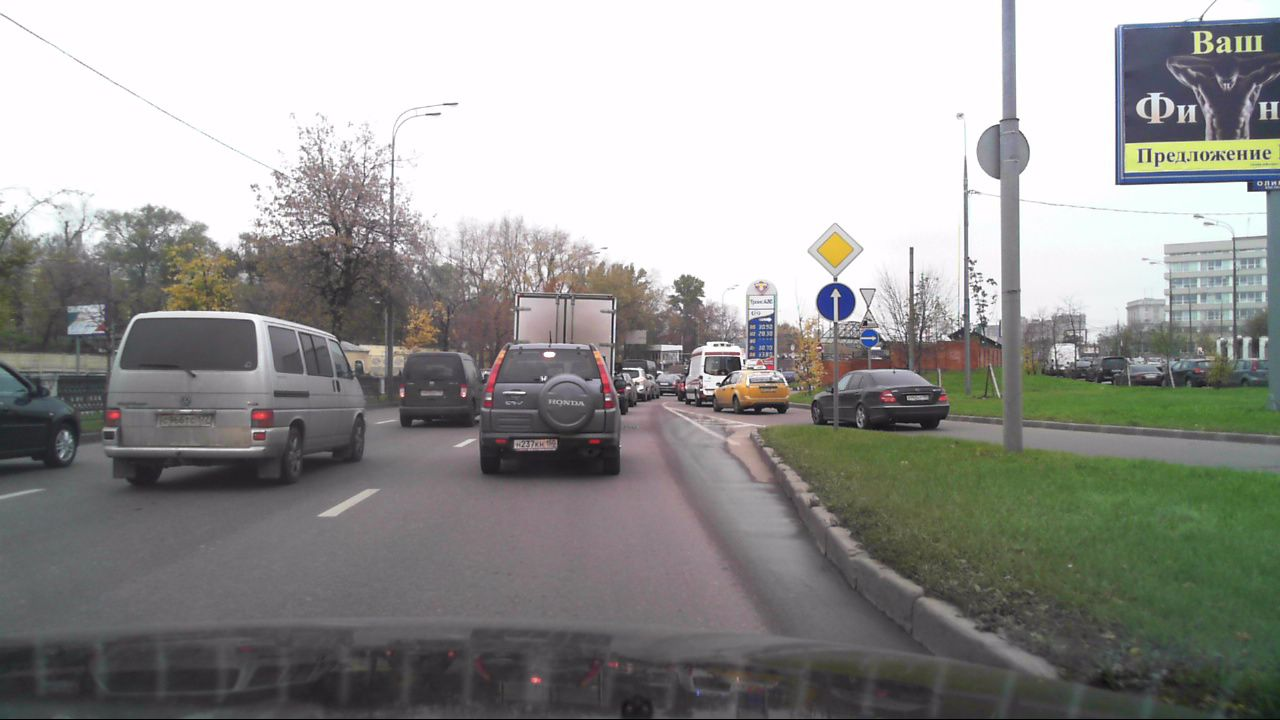Turn Right: (860, 329, 879, 346)
